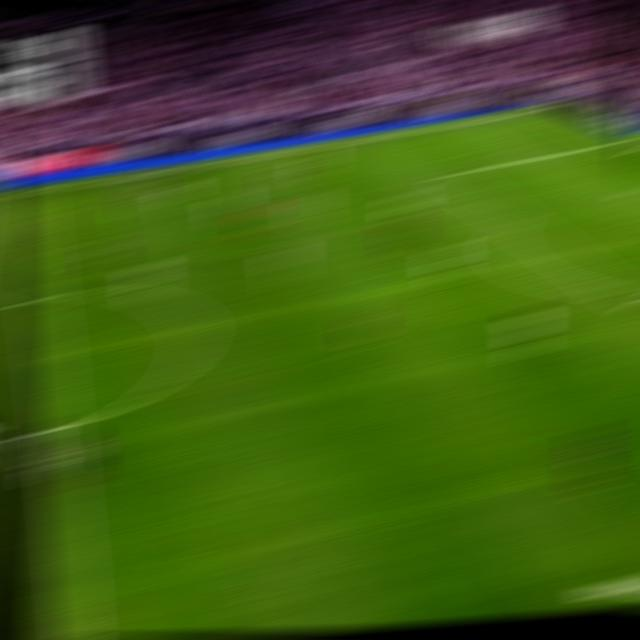bigarea_top_inner: (436, 168, 464, 180)
bottom_arc_area_intersection: (604, 284, 635, 300)
corner: (529, 106, 558, 112)
halfcircle_bottom: (39, 414, 74, 441)
halfcircle_top: (24, 286, 59, 310)
midline_top_intersection: (15, 187, 44, 197)
smallarea_top_inner: (620, 183, 640, 193)
top_arc_area_intersection: (500, 212, 531, 226)
